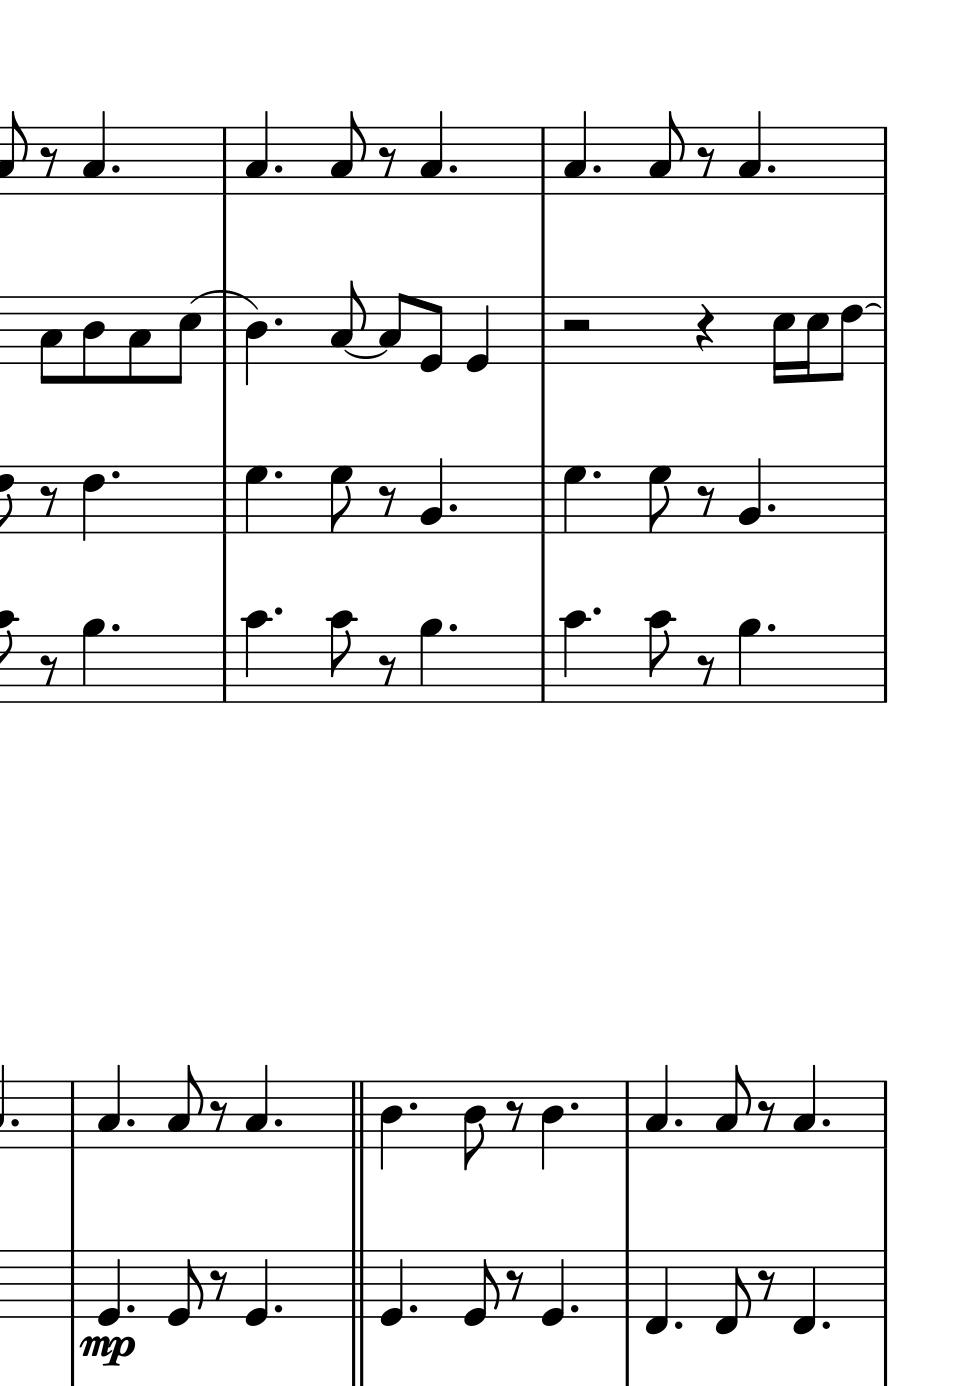16_5: (800, 293, 828, 383), (770, 294, 795, 384)
4_-1: (789, 1247, 817, 1337), (643, 1248, 670, 1337)
4_0: (378, 1248, 407, 1327), (243, 1248, 272, 1329), (539, 1248, 567, 1328), (463, 294, 491, 374), (95, 1247, 123, 1328)
4_10: (241, 609, 272, 705), (559, 609, 590, 705)
4_2: (418, 455, 447, 536), (737, 457, 764, 536)
4_3: (81, 108, 108, 196), (418, 109, 445, 197), (243, 1063, 270, 1150), (791, 1063, 819, 1150), (244, 110, 270, 197), (737, 109, 764, 196), (644, 1063, 670, 1150), (97, 1063, 122, 1150), (563, 110, 588, 196)
4_4: (242, 295, 270, 386), (538, 1078, 565, 1172), (378, 1078, 403, 1172)
4_6: (80, 464, 105, 542)
4_7: (242, 463, 269, 536), (560, 464, 587, 536)
4_9: (416, 617, 445, 705), (80, 617, 108, 705), (735, 617, 763, 705)
8_-1: (712, 1247, 750, 1336)
8_0: (461, 1248, 498, 1329), (165, 1248, 202, 1329), (419, 295, 445, 376)
8_10: (325, 609, 356, 705), (643, 609, 675, 705)
8_3: (329, 110, 366, 196), (647, 110, 684, 196), (329, 279, 366, 365), (714, 1063, 750, 1150), (167, 1064, 202, 1150), (125, 293, 152, 386), (36, 294, 62, 386), (378, 291, 408, 365)
8_4: (460, 1078, 488, 1172), (78, 294, 106, 385)
8_5: (170, 294, 202, 385)
8_6: (832, 294, 862, 382)
8_7: (327, 464, 355, 536), (645, 464, 673, 536)
Double_barline: (346, 1081, 370, 1150), (346, 1251, 370, 1318)
Rests2: (556, 315, 595, 337)
Rests4: (693, 303, 716, 355)
Rests8: (501, 1098, 525, 1134), (694, 483, 717, 520), (37, 652, 60, 688), (755, 1267, 777, 1304), (209, 1267, 230, 1305), (38, 144, 60, 180), (695, 652, 717, 688), (756, 1096, 778, 1133), (505, 1267, 526, 1304), (377, 144, 399, 179), (695, 144, 717, 179), (38, 483, 60, 517), (208, 1096, 230, 1131), (375, 483, 397, 519), (377, 652, 398, 687)
Single_barline: (875, 297, 894, 365), (533, 296, 552, 364), (216, 466, 234, 532), (533, 128, 552, 194), (533, 467, 552, 532), (533, 636, 552, 701), (64, 1081, 81, 1148), (876, 467, 893, 533), (216, 635, 233, 702), (64, 1251, 81, 1318), (216, 128, 233, 194), (876, 128, 893, 194), (876, 636, 893, 702), (619, 1082, 635, 1148), (619, 1251, 635, 1318), (218, 303, 235, 366), (877, 1081, 892, 1148), (877, 1251, 892, 1317)
Slur: (191, 290, 260, 309), (343, 349, 390, 359)
dot: (272, 162, 285, 177), (590, 162, 603, 177), (272, 315, 285, 330), (108, 468, 122, 483), (589, 606, 603, 619), (107, 621, 122, 635), (765, 161, 777, 176), (272, 468, 284, 483), (590, 468, 602, 483), (406, 1099, 419, 1113), (124, 1116, 137, 1130), (672, 1116, 685, 1130), (819, 1116, 832, 1130), (272, 606, 284, 619), (445, 622, 459, 635), (764, 622, 777, 635), (568, 1100, 581, 1113), (8, 1116, 21, 1129), (406, 1302, 419, 1316), (672, 1318, 685, 1332), (272, 1116, 283, 1130), (124, 1301, 136, 1316), (447, 502, 459, 514), (765, 502, 777, 514), (272, 1302, 284, 1315), (109, 162, 121, 176), (447, 162, 458, 176), (820, 1318, 832, 1332), (568, 1302, 580, 1315)
mp: (76, 1328, 138, 1372)
